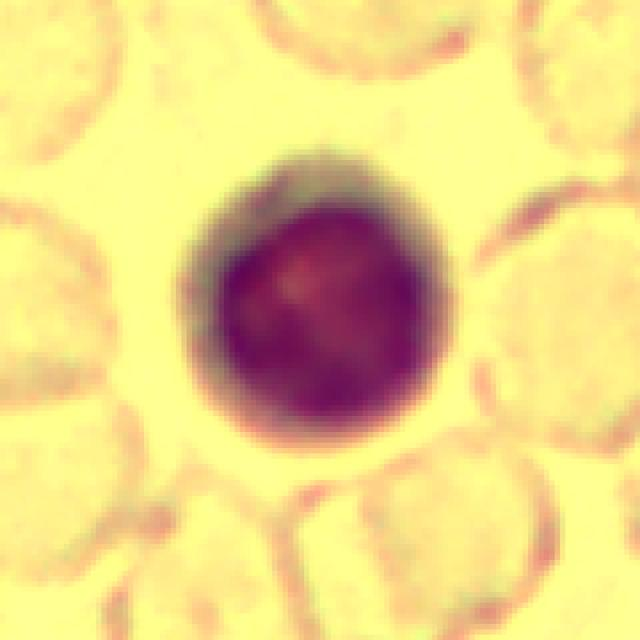WBC: (133, 128, 470, 459)
